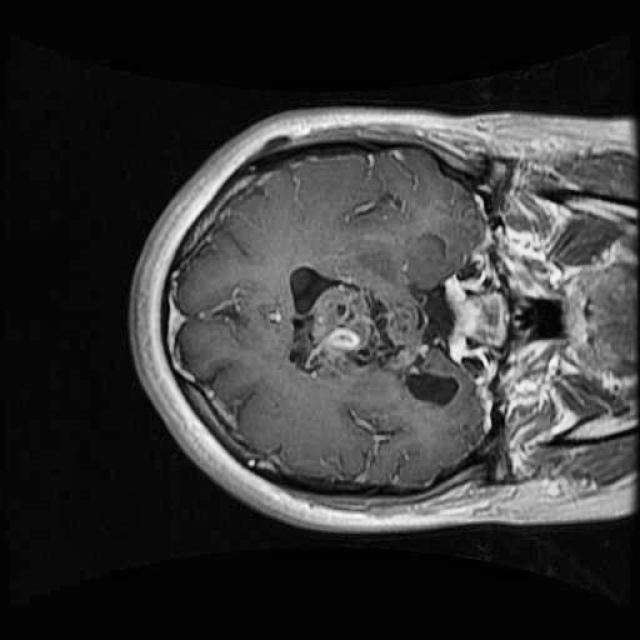Tumor: (303, 271, 402, 380)
